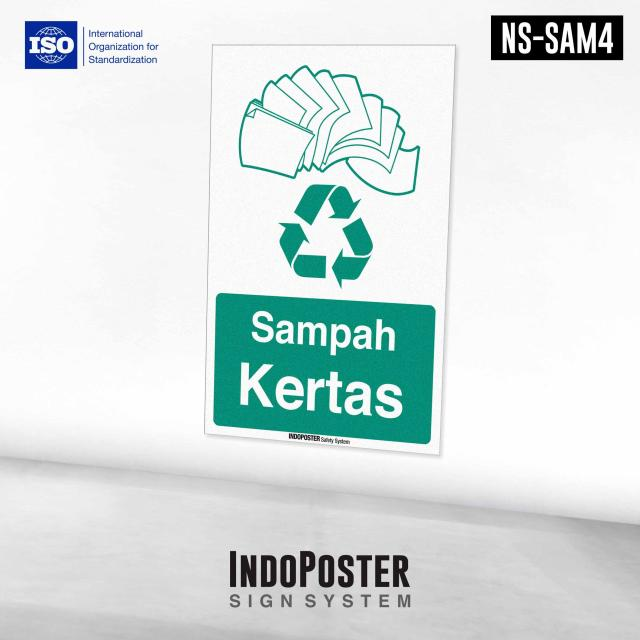Kertas: (234, 46, 446, 201)
